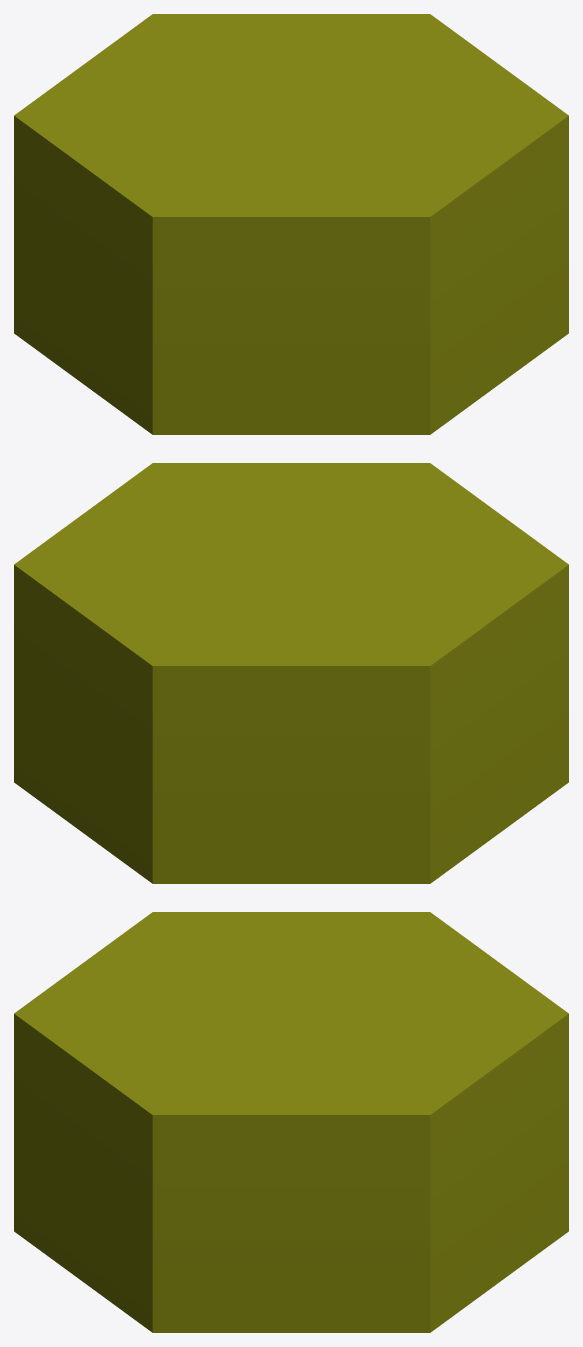
Rendered from hex_grass_bottom.glb.
3 renders of one model, top to bottom at view 1: azimuth 30°, elevation 25°; view 2: azimuth 150°, elevation 25°; view 3: azimuth 270°, elevation 25°, orthographic.
Parts seen in each view (by area): view 1: hex_grass_bottom; view 2: hex_grass_bottom; view 3: hex_grass_bottom.
Boxes of the visible parts, x1,y1,x2,y2 form: hex_grass_bottom: [14, 14, 568, 434]; hex_grass_bottom: [14, 463, 568, 883]; hex_grass_bottom: [14, 912, 568, 1332].
Size of the model in its own units: 2 by 1 by 2.31.
1 material, 1 textured.
